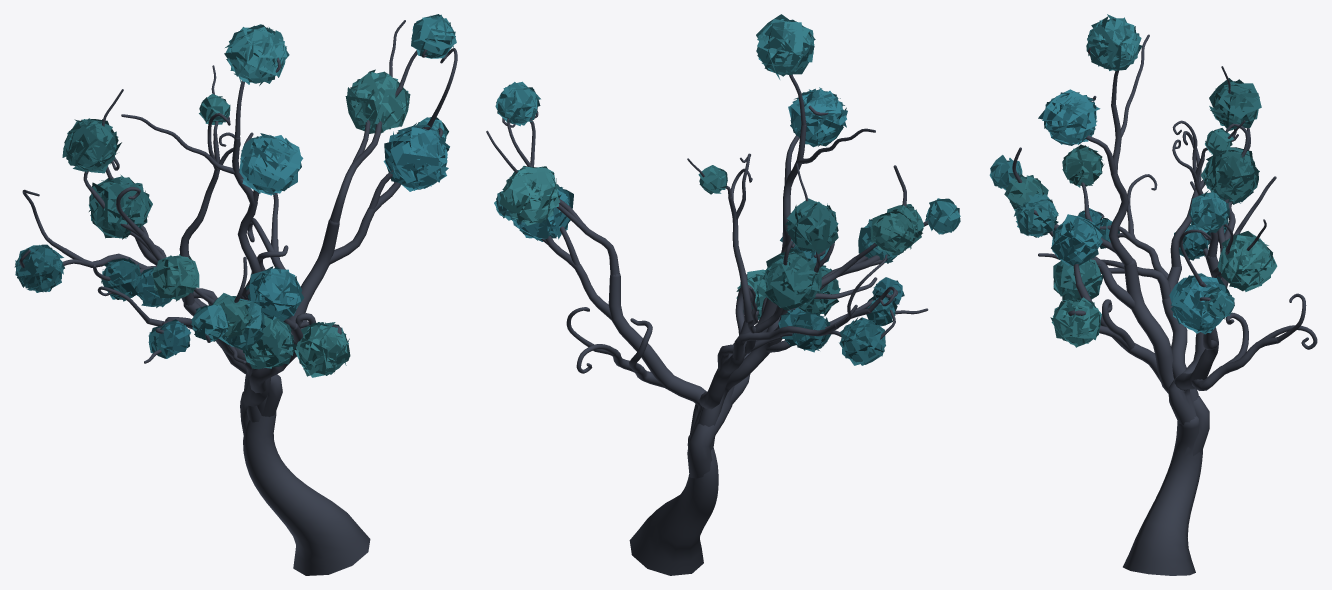
File: spooky-5197.glb
3 renders of one model, left to right at view 1: azimuth 30°, elevation 25°; view 2: azimuth 150°, elevation 25°; view 3: azimuth 270°, elevation 25°, orthographic. The views are drawn at different scales.
Parts seen in each view (by area): view 1: leaves, wood; view 2: wood, leaves; view 3: leaves, wood.
Part boxes in pixels (box(x1,y1,x2,y2)): leaves: box(14, 14, 456, 377); wood: box(19, 20, 457, 575); wood: box(486, 75, 928, 575); leaves: box(494, 14, 960, 365); leaves: box(989, 14, 1277, 347); wood: box(1012, 34, 1317, 575).
Bounding box in the file's own units: 7.77 × 10.09 × 5.79.
